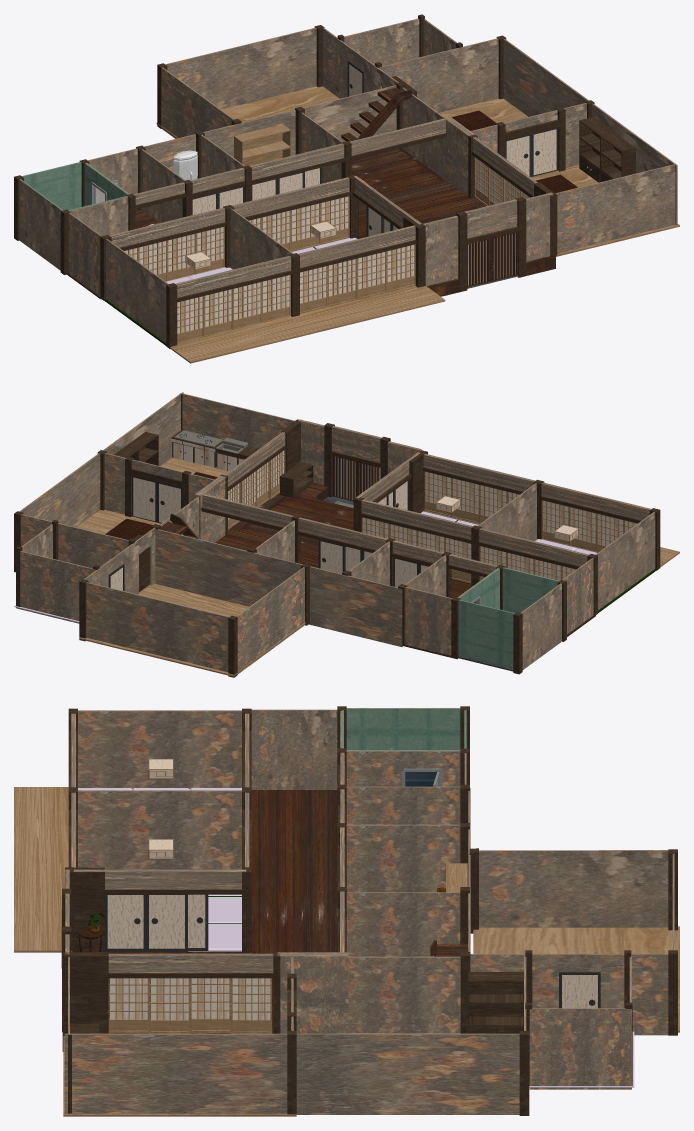
Rendered from ie修正.fbx.
3 views of the same model, one above another, from view 1: azimuth 30°, elevation 25°; view 2: azimuth 150°, elevation 25°; view 3: azimuth 270°, elevation 25° (orthographic). The views are drawn at different scales.
Parts seen in each view (by area): view 1: 壁.018, 壁.015, 隠し２.001, 壁.017, 壁.014, 壁.007, 壁.010, 立方体.019, 立方体.018, 立方体.002, 壁.019, 階段 (+66 smaller); view 2: 壁.007, 壁.018, 壁.014, 壁.019, 壁.020, 壁.015, 壁.010, 風呂場床.003, 立方体.018, 立方体.019, 壁.009, 壁.017 (+64 smaller); view 3: 壁.014, 壁.019, 階段.001, 壁.011, 壁.010, 壁.004, 隠し２.001, 壁.021, 壁.022, 壁.002, 壁.003, 壁.012 (+38 smaller).
Boxes of the visible parts, left/top/right/bottom form: 壁.018: left=165, top=27, right=316, bottom=109; 壁.015: left=555, top=164, right=675, bottom=253; 隠し２.001: left=169, top=286, right=445, bottom=363; 壁.017: left=379, top=38, right=498, bottom=112; 壁.014: left=503, top=39, right=677, bottom=225; 壁.007: left=144, top=85, right=396, bottom=170; 壁.010: left=106, top=239, right=168, bottom=342; 立方体.019: left=175, top=225, right=415, bottom=297; 立方体.018: left=109, top=177, right=349, bottom=247; 立方体.002: left=250, top=118, right=445, bottom=179; 壁.019: left=161, top=67, right=234, bottom=138; 階段: left=351, top=148, right=444, bottom=201; 壁.007: left=155, top=529, right=402, bottom=646; 壁.018: left=86, top=582, right=229, bottom=671; 壁.014: left=19, top=392, right=183, bottom=527; 壁.019: left=236, top=567, right=304, bottom=674; 壁.020: left=16, top=551, right=95, bottom=623; 壁.015: left=181, top=393, right=294, bottom=448; 壁.010: left=595, top=512, right=655, bottom=610; 風呂場床.003: left=458, top=599, right=514, bottom=669; 立方体.018: left=361, top=499, right=588, bottom=566; 立方体.019: left=423, top=454, right=651, bottom=520; 壁.009: left=405, top=587, right=452, bottom=655; 壁.017: left=21, top=514, right=128, bottom=568; 壁.014: left=64, top=1033, right=519, bottom=1114; 壁.019: left=479, top=850, right=668, bottom=927; 階段.001: left=249, top=790, right=337, bottom=1033; 壁.011: left=78, top=790, right=241, bottom=869; 壁.010: left=78, top=710, right=241, bottom=788; 壁.004: left=348, top=956, right=460, bottom=1033; 隠し２.001: left=14, top=787, right=72, bottom=952; 壁.021: left=529, top=1008, right=629, bottom=1089; 壁.022: left=470, top=954, right=668, bottom=1035; 壁.002: left=346, top=824, right=460, bottom=892; 壁.003: left=346, top=892, right=460, bottom=956; 壁.012: left=251, top=709, right=337, bottom=789.
Size of the model in its own units: 1287 by 186 by 1101.
Materials: 59 (50 with a texture image).
